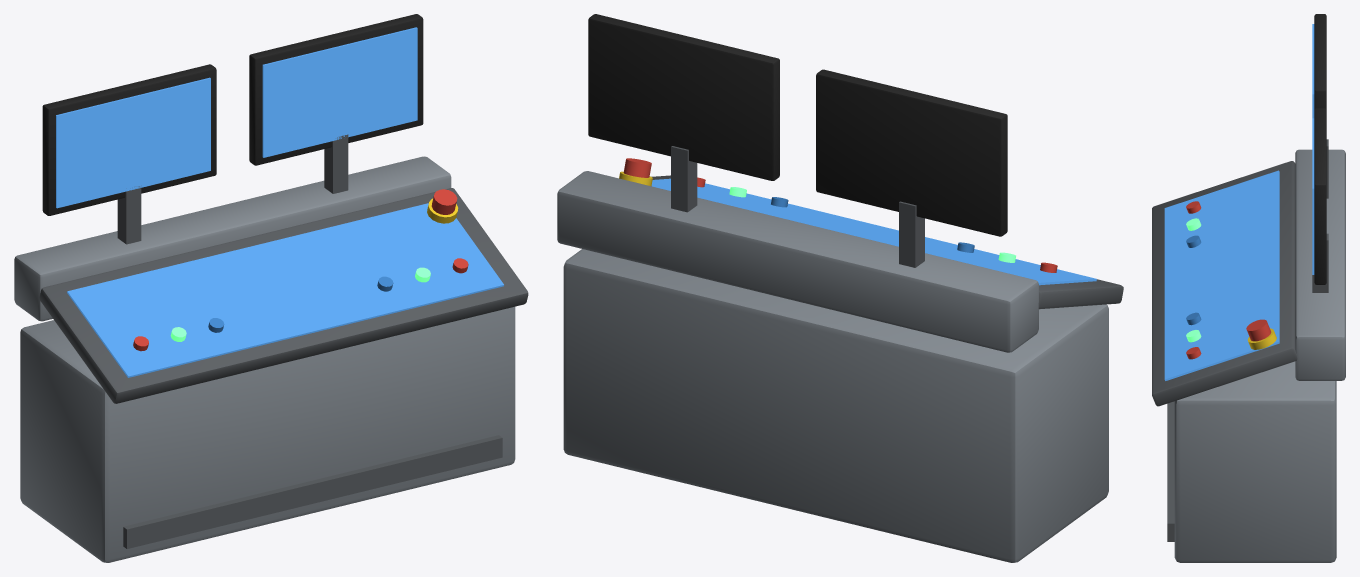
The model's file is control_desk.glb.
3 views of the same model, side by side, from view 1: azimuth 30°, elevation 25°; view 2: azimuth 150°, elevation 25°; view 3: azimuth 270°, elevation 25° (orthographic). The views are drawn at different scales.
Parts seen in each view (by area): view 1: ControlDesk_geo, panelScreen, panel_geo, monitor_2, monitor_1; view 2: ControlDesk_geo, panelScreen, panel_geo; view 3: ControlDesk_geo, panelScreen, panel_geo, monitor_2, monitor_1.
Part boxes in pixels (x1,y1,x2,y2): ControlDesk_geo: (14, 14, 515, 562); panelScreen: (67, 203, 503, 377); panel_geo: (39, 188, 528, 403); monitor_2: (262, 27, 417, 157); monitor_1: (56, 77, 210, 208); ControlDesk_geo: (557, 14, 1108, 562); panelScreen: (651, 178, 1096, 285); panel_geo: (619, 158, 1123, 309); ControlDesk_geo: (1167, 14, 1345, 562); panelScreen: (1164, 170, 1279, 380); panel_geo: (1152, 161, 1297, 406); monitor_2: (1312, 118, 1314, 274); monitor_1: (1312, 24, 1314, 118).
Bounding box in the file's own units: 2.2 × 2.03 × 0.9558.
